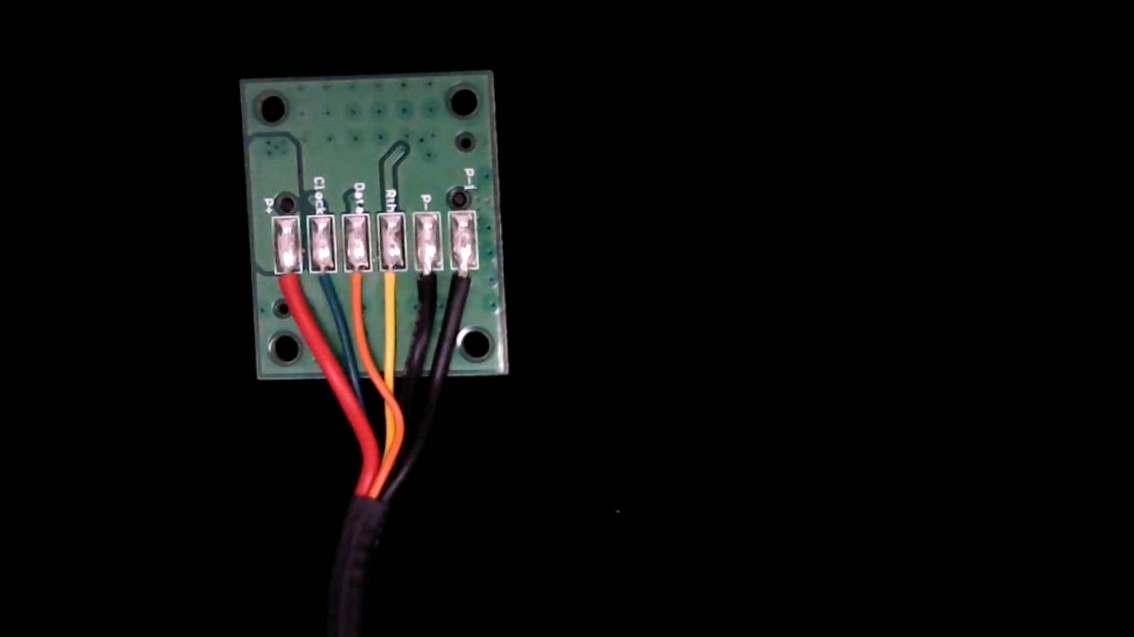Black: (411, 255, 444, 321)
Black1: (450, 256, 481, 317)
Green: (308, 257, 340, 321)
Orange: (342, 256, 372, 322)
Red: (274, 257, 306, 320)
Yellow: (377, 257, 409, 324)
